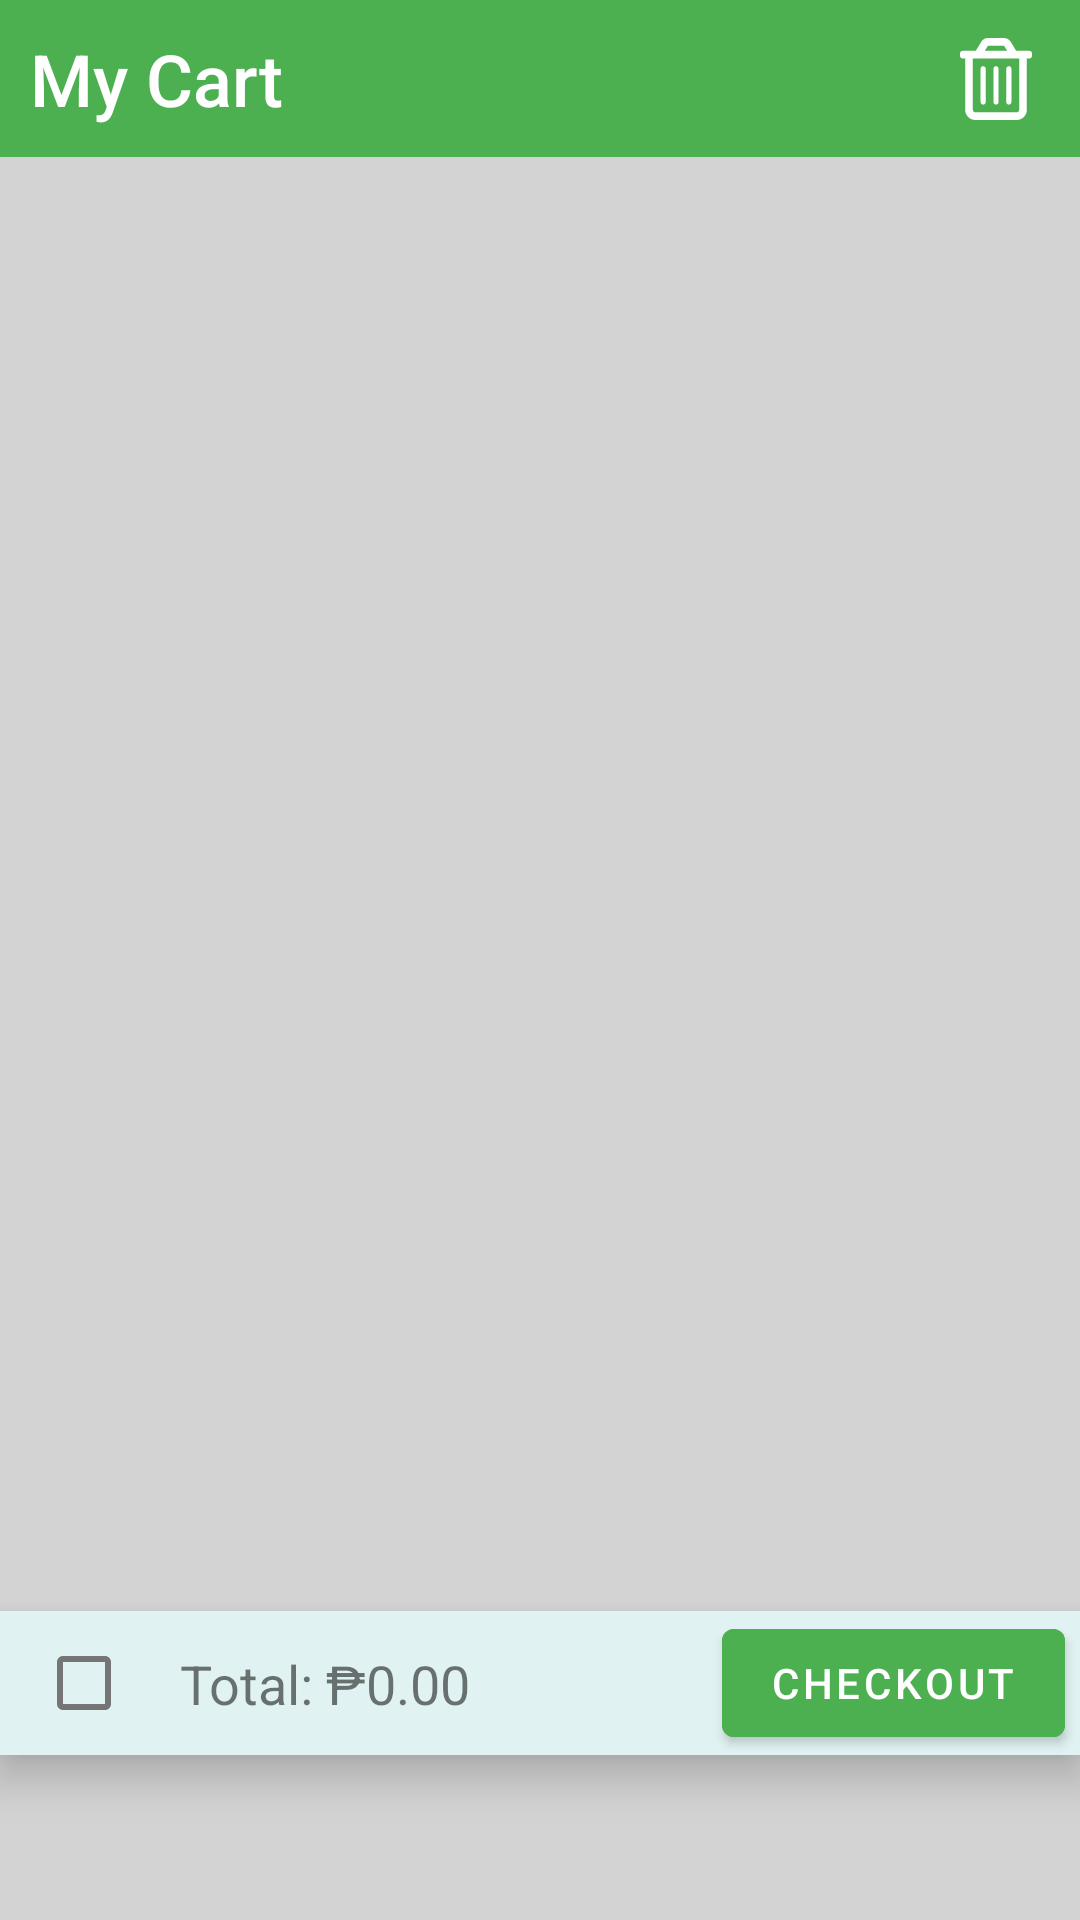

Icon click points for this 1080px x 1920px phone screenshot, format (x=x, y=y):
trash: (x=996, y=79)
